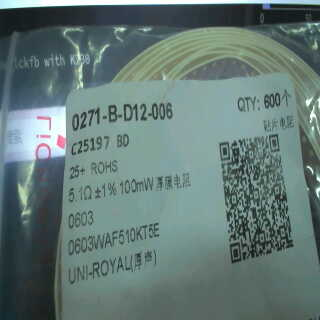5.1R: (65, 182, 94, 207)
